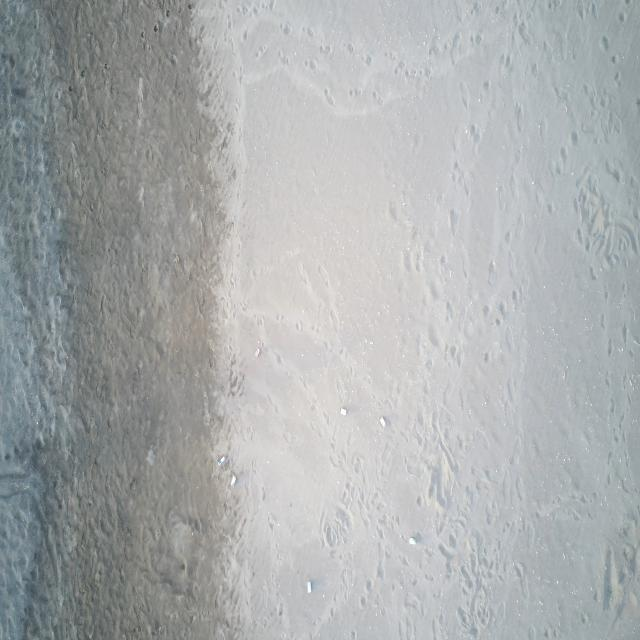Garbage: (216, 455, 227, 464), (379, 415, 387, 427), (230, 472, 236, 486), (306, 580, 312, 592), (407, 536, 415, 544), (253, 347, 260, 356), (340, 407, 347, 415)
